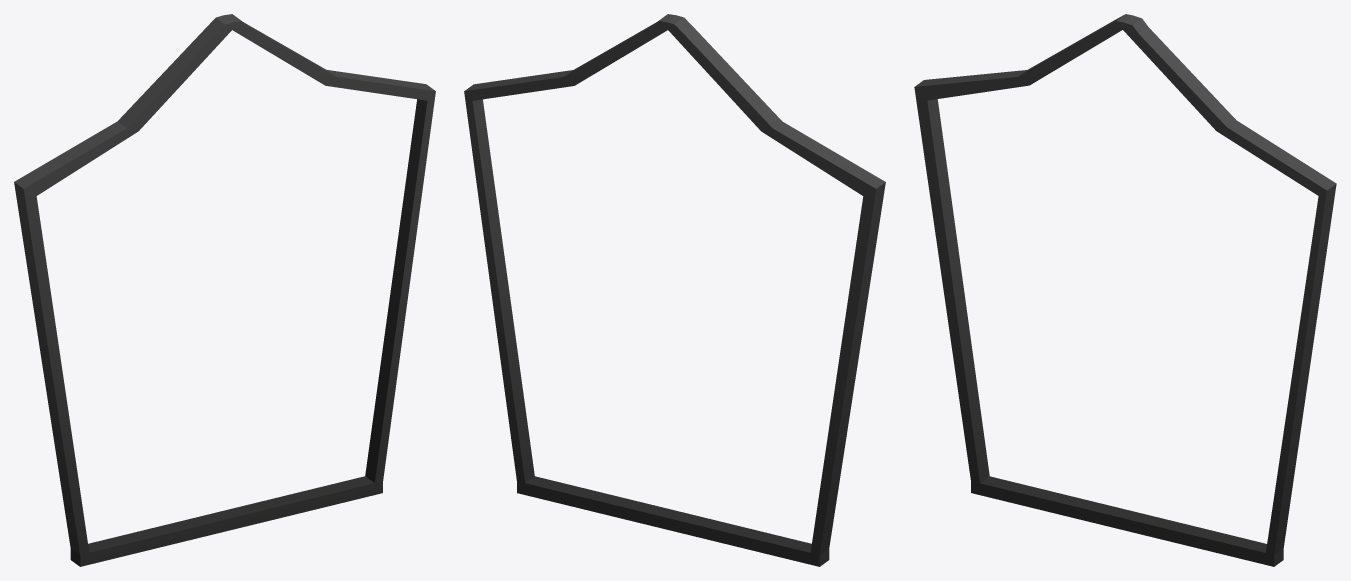
File: cornice_finestra_lvl4_grande.fbx
3 renders of one model, left to right at view 1: azimuth 30°, elevation 25°; view 2: azimuth 150°, elevation 25°; view 3: azimuth 330°, elevation 25°, orthographic.
Parts seen in each view (by area): view 1: pCube7; view 2: pCube7; view 3: pCube7.
Boxes of the visible parts, x1,y1,x2,y2 form: pCube7: (14,14,435,566); pCube7: (464,14,885,566); pCube7: (914,14,1336,566).
Bounding box in the file's own units: 628 × 739 × 25.68.
